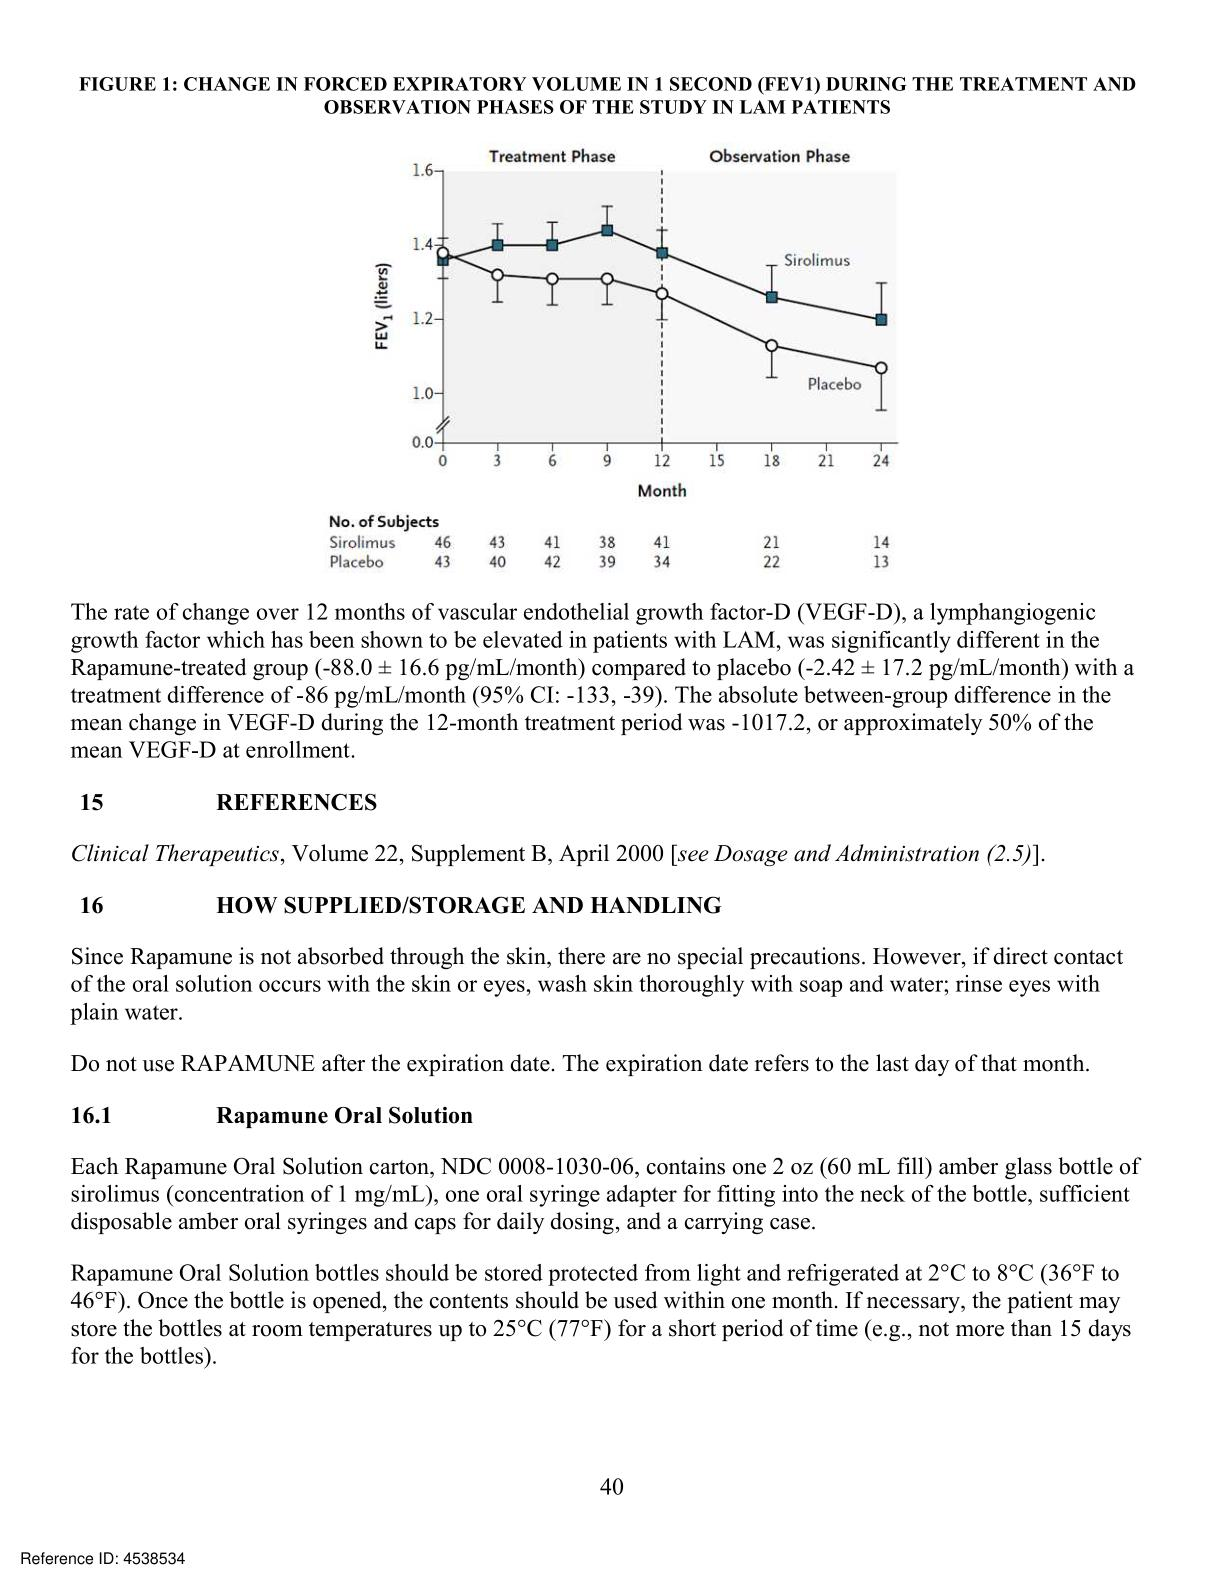nolines: (324, 510, 892, 570)
